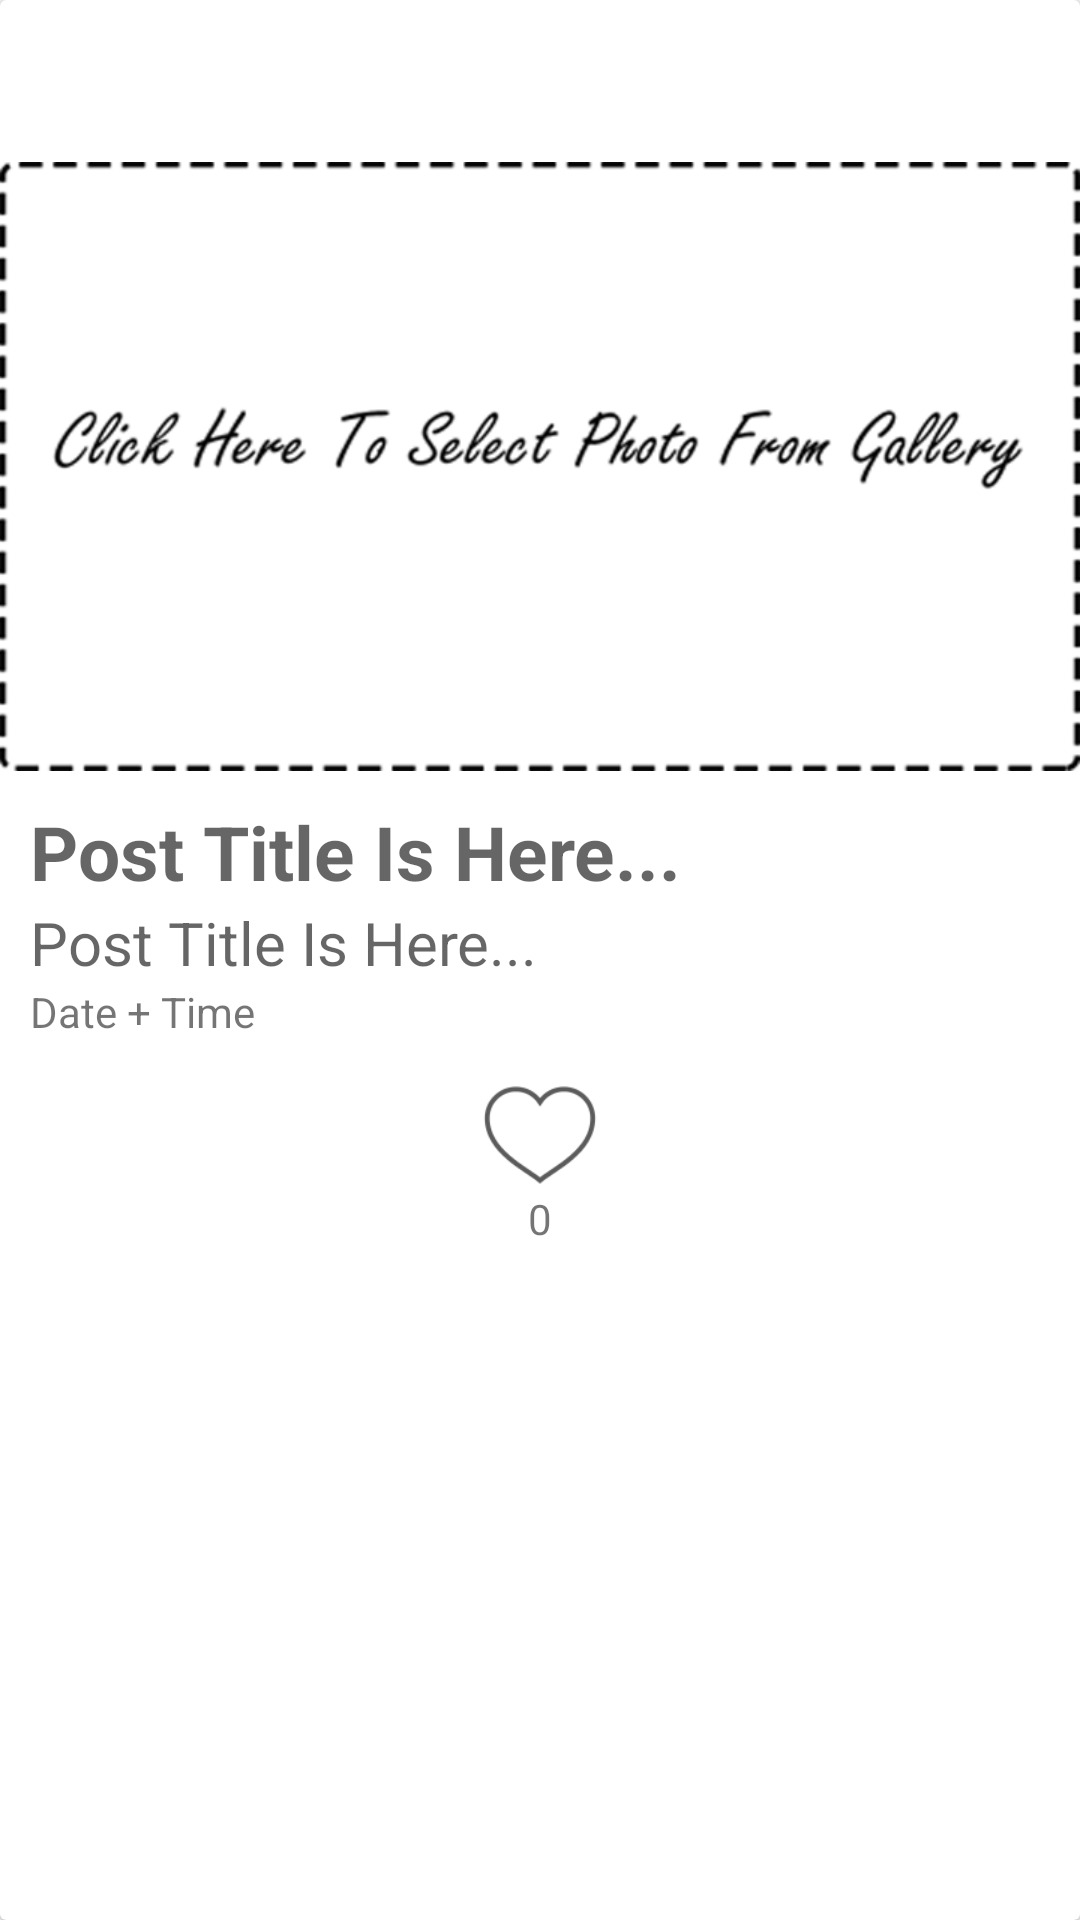

Icons on this 1080×1920 Android screen, each with its box as (x1, y1, x2, y2):
like: (484, 1086, 596, 1184)
